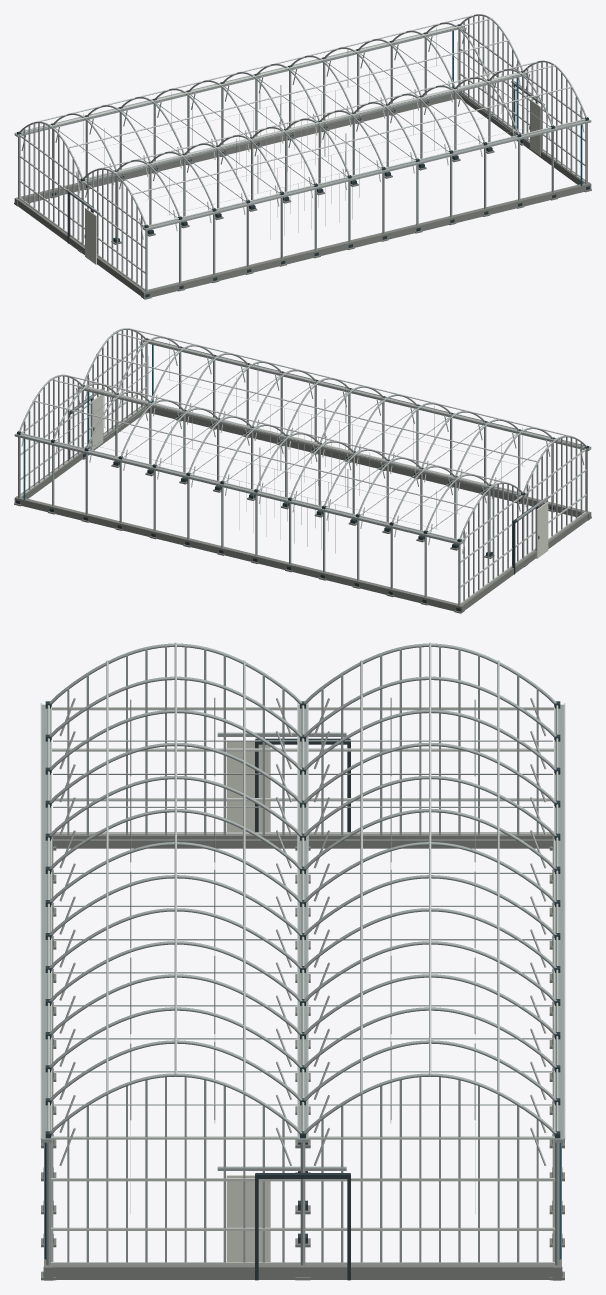
File: greenhouse-structure.glb
3 renders of one model, top to bottom at view 1: azimuth 30°, elevation 25°; view 2: azimuth 150°, elevation 25°; view 3: azimuth 270°, elevation 25°, orthographic. The views are drawn at different scales.
Visible parts, largest first — view 1: Bent galvanized roof bow, Diagonal knee brace, Post concrete pad, Post base shoe, Sliding door translucent panel, Tomato crop support twine, Rainwater downpipe; view 2: Bent galvanized roof bow, Diagonal knee brace, Post concrete pad, Post base shoe, Sliding door translucent panel, Tomato crop support twine, Rainwater downpipe; view 3: Bent galvanized roof bow, Diagonal knee brace, Post concrete pad, Sliding door translucent panel, Post base shoe.
Boxes of the visible parts, <box> form: Bent galvanized roof bow: <box>14,14,591,291</box>; Diagonal knee brace: <box>14,14,591,290</box>; Post concrete pad: <box>14,91,591,299</box>; Post base shoe: <box>17,24,589,297</box>; Sliding door translucent panel: <box>85,99,541,264</box>; Tomato crop support twine: <box>239,91,359,239</box>; Rainwater downpipe: <box>452,30,582,185</box>; Bent galvanized roof bow: <box>14,328,591,605</box>; Diagonal knee brace: <box>14,328,591,604</box>; Post concrete pad: <box>14,405,591,613</box>; Post base shoe: <box>16,338,588,611</box>; Sliding door translucent panel: <box>91,394,548,558</box>; Tomato crop support twine: <box>239,405,359,553</box>; Rainwater downpipe: <box>23,344,153,499</box>; Bent galvanized roof bow: <box>41,643,564,1265</box>; Diagonal knee brace: <box>40,642,565,1264</box>; Post concrete pad: <box>41,831,564,1280</box>; Sliding door translucent panel: <box>226,741,270,1262</box>; Post base shoe: <box>43,701,562,1280</box>.
Bounding box in the file's own units: 26.61 × 5.75 × 13.41.
